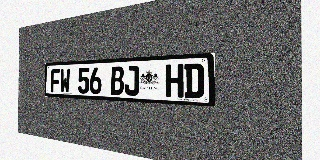5: (78, 68, 89, 94)
6: (90, 67, 102, 94)
B: (111, 66, 124, 95)
D: (184, 63, 204, 98)
F: (51, 69, 60, 93)
H: (165, 64, 183, 98)
J: (124, 66, 139, 96)
W: (60, 68, 70, 93)
